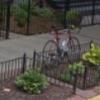bicycles: (42, 24, 80, 70)
